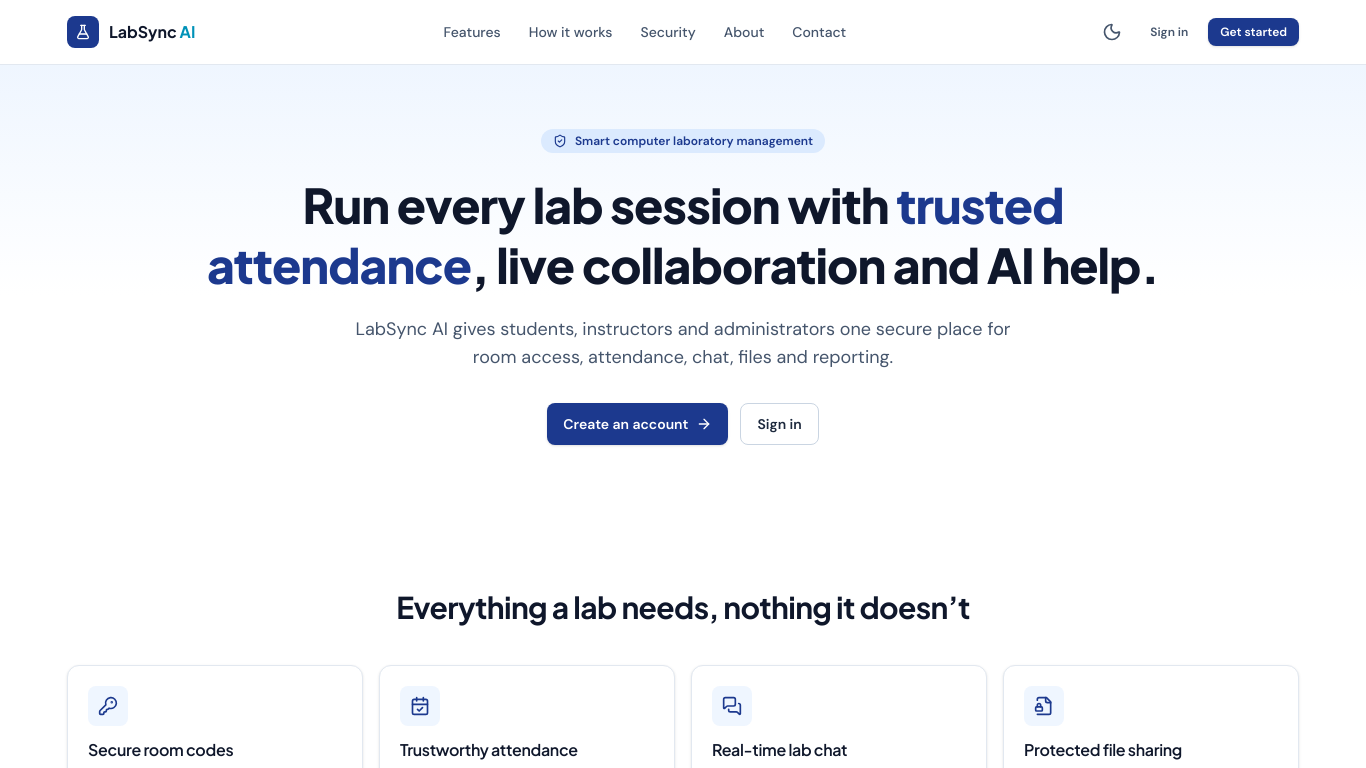
Test: LabSync UI › shows a clear error for bad credentials and stays on the login form
Click the 1st button "Sign in" at point(1169, 32), box x1=1138 y1=18 x2=1200 y2=46
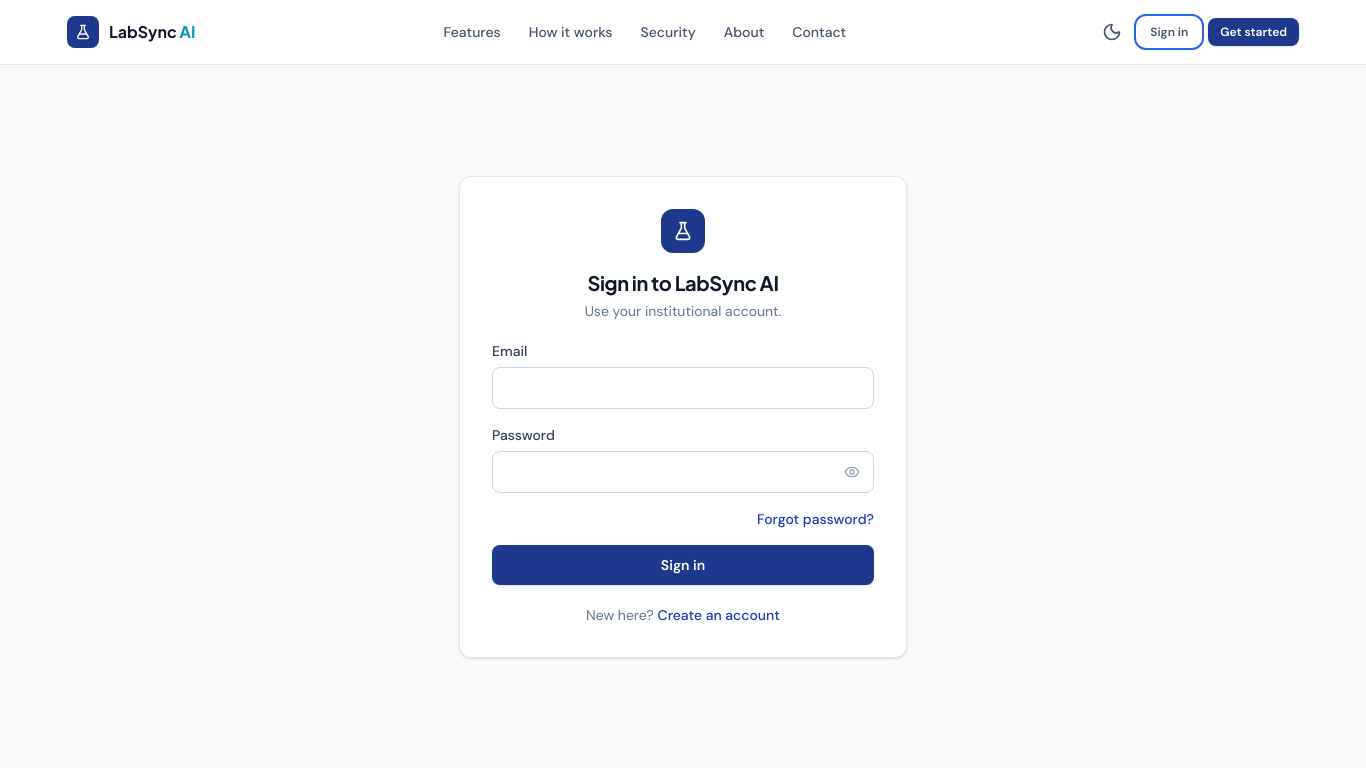
Type "asha@x.edu" into the field labelled "Email" at point(683, 388), box x1=492 y1=367 x2=874 y2=409
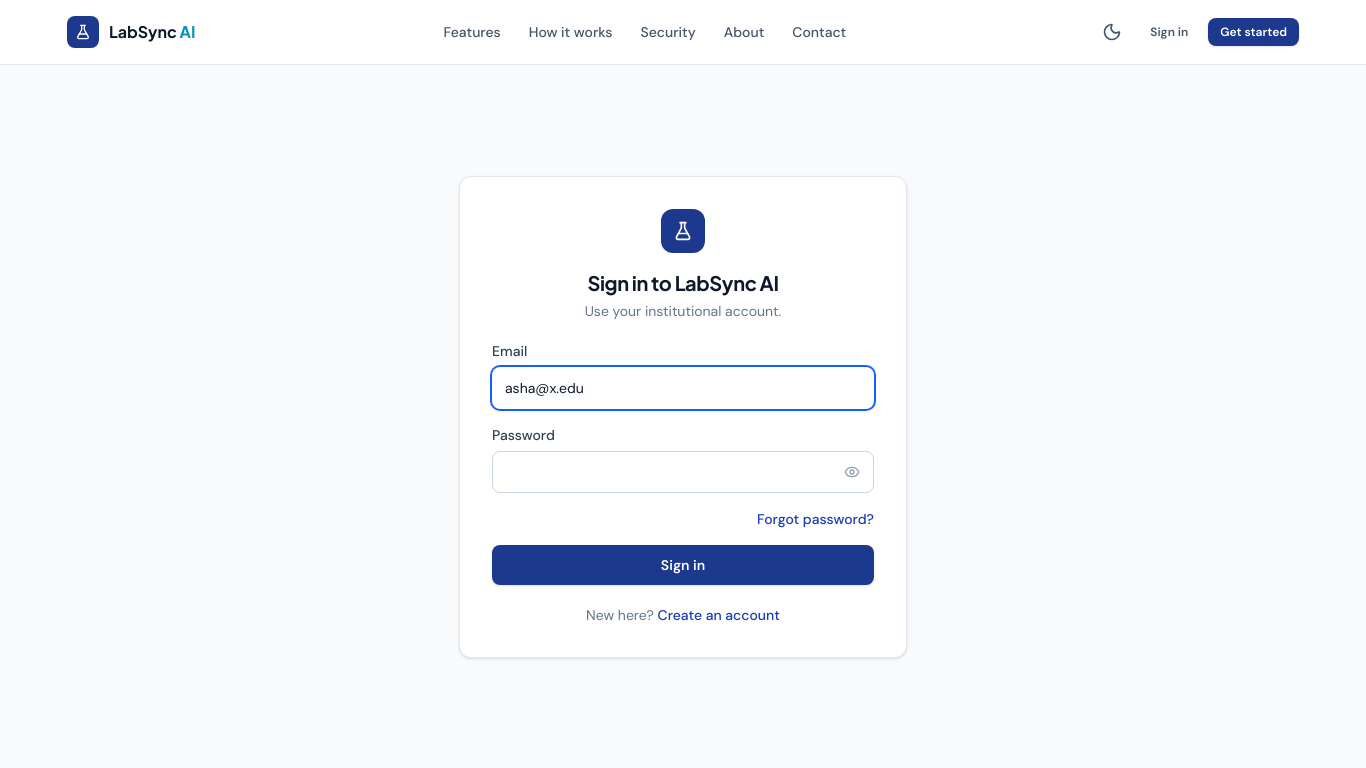
Type "wrong-password-1" into the password field labelled "Password" at point(683, 472), box x1=492 y1=451 x2=874 y2=493
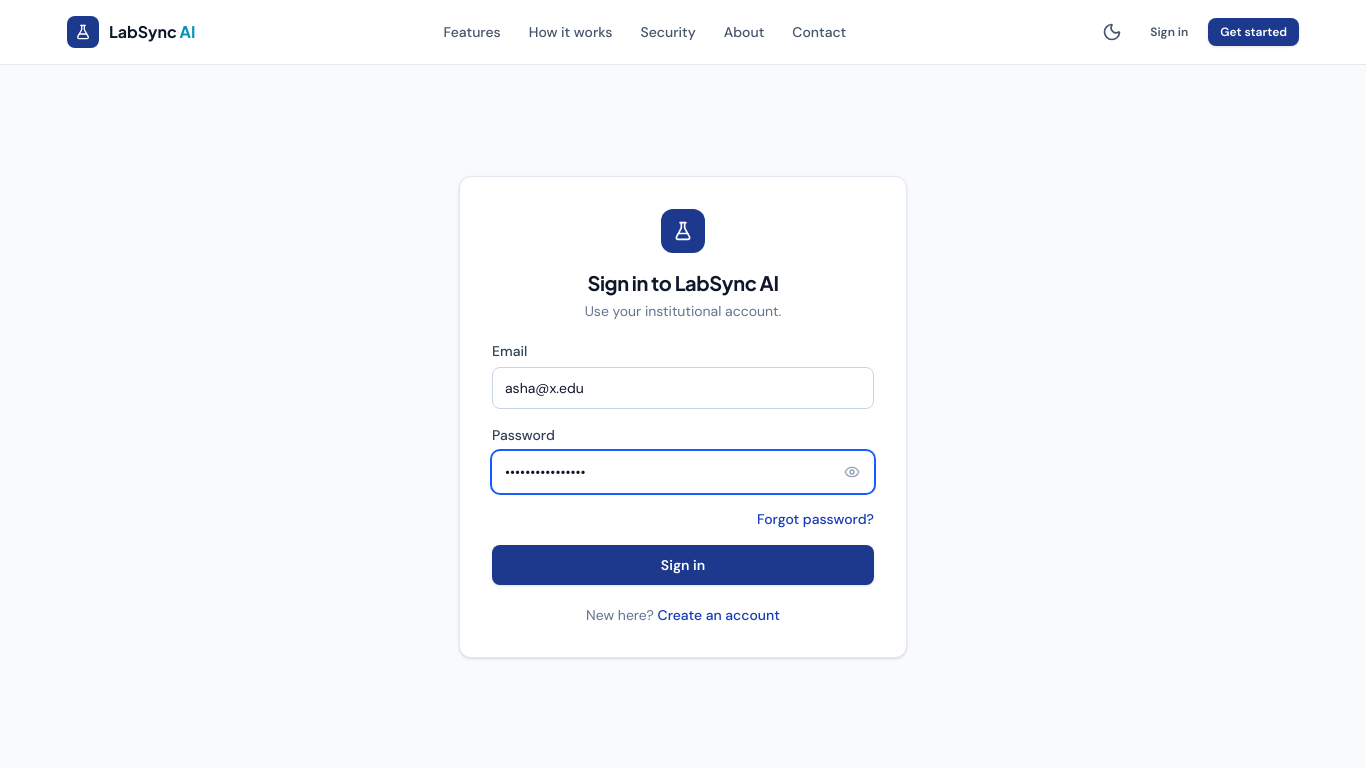
Click the button "Sign in" below "Email" at point(683, 565), box x1=492 y1=545 x2=874 y2=585
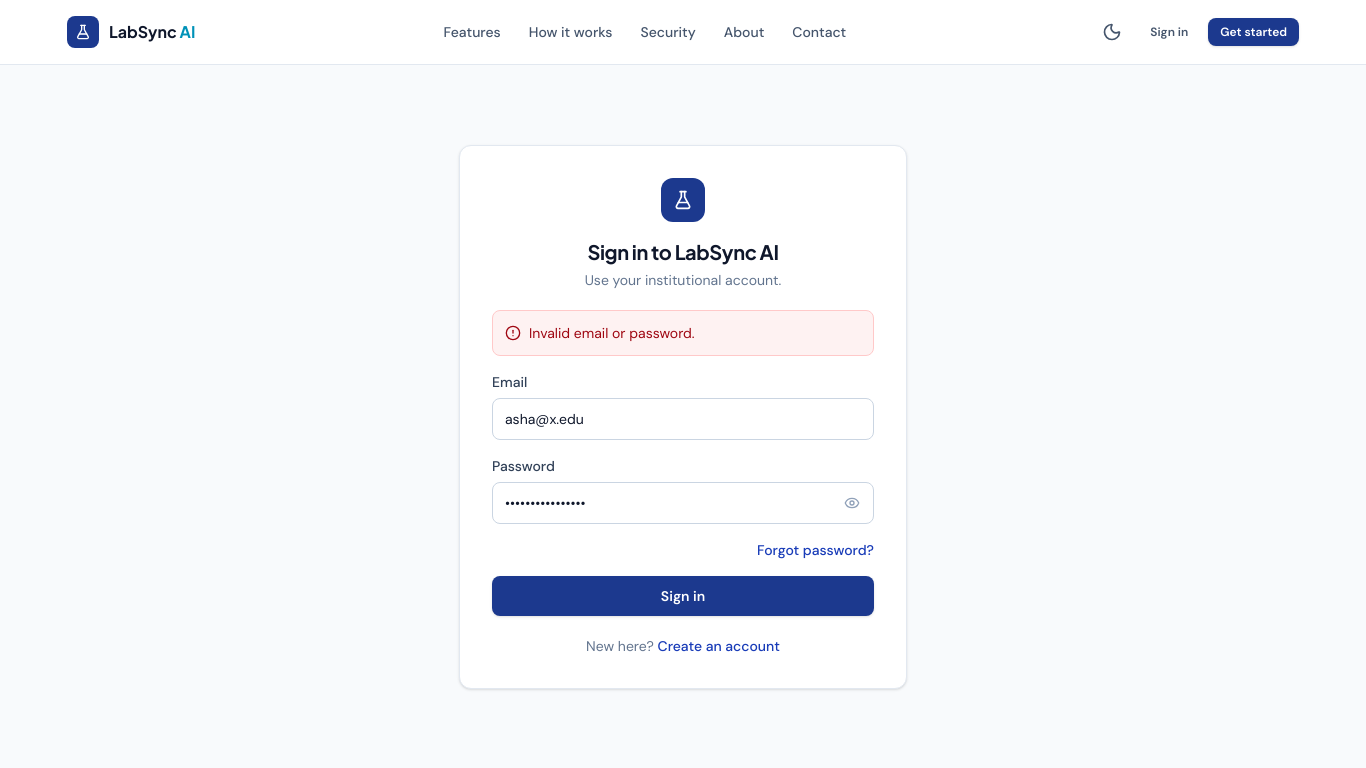
Expected: the message shows "Invalid email or password", x1=529 y1=324 x2=695 y2=342
